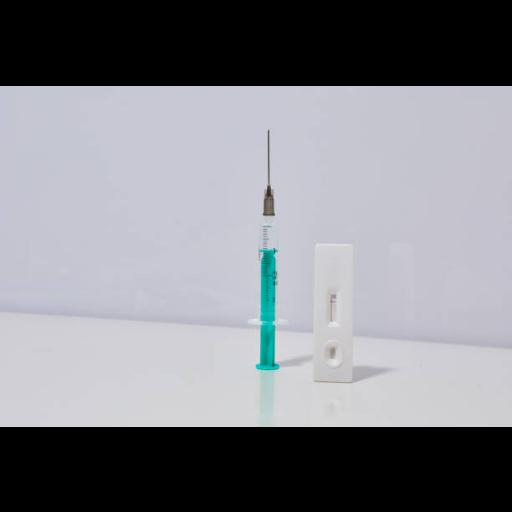Neg: (314, 244, 352, 380)
